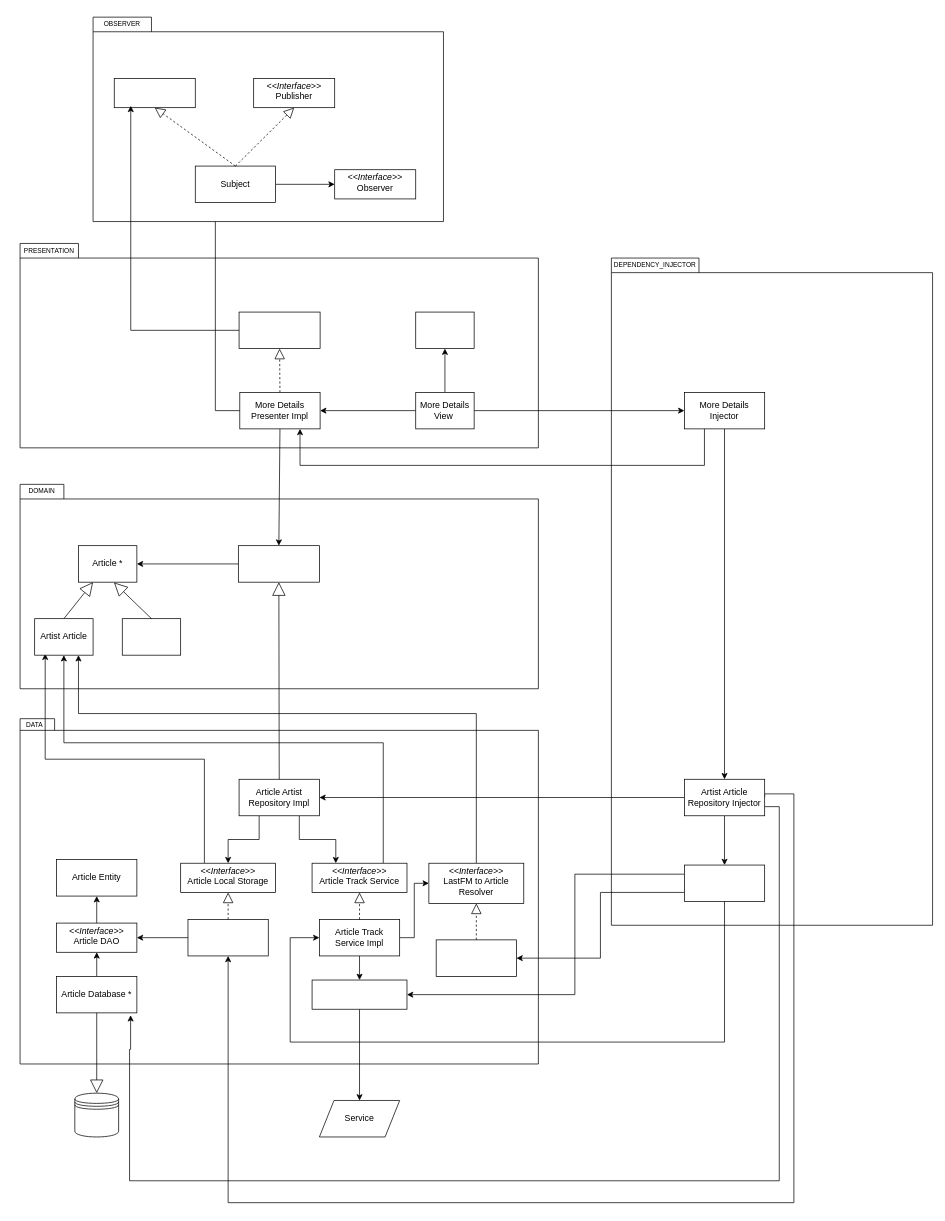
Some shapes in this 945 by 1221 pixel diagram are drawn without their labels. The centre of each missing label's shape, as x and y in pixels:
<<Interface>> Artist Article Repository: the point at 278,563
<<Interface>> LastFM API: the point at 359,994
<<Interface>> More Details Presenter: the point at 279,330
<<Interface>> Observable: the point at 154,93
Article Local Storage Impl: the point at 227,937
Article Track Injector: the point at 724,883
Empty Article: the point at 151,636
LastFM to Article Resolver Impl: the point at 475,957
More Details UIState: the point at 444,330
